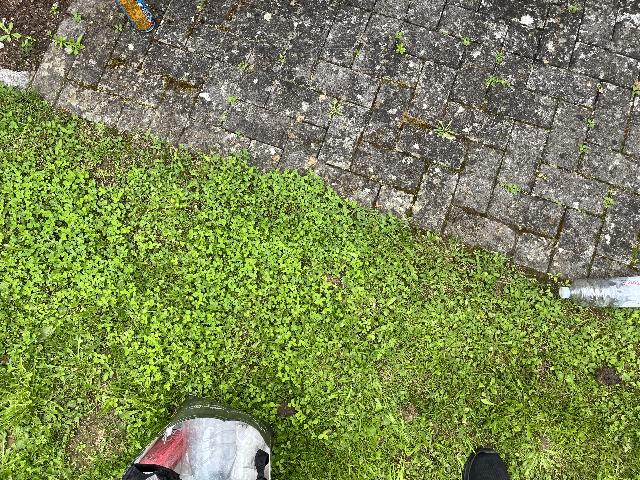can: (139, 425, 190, 471), (117, 0, 156, 35)
plastic_bottle: (186, 417, 238, 480), (559, 274, 640, 310)
